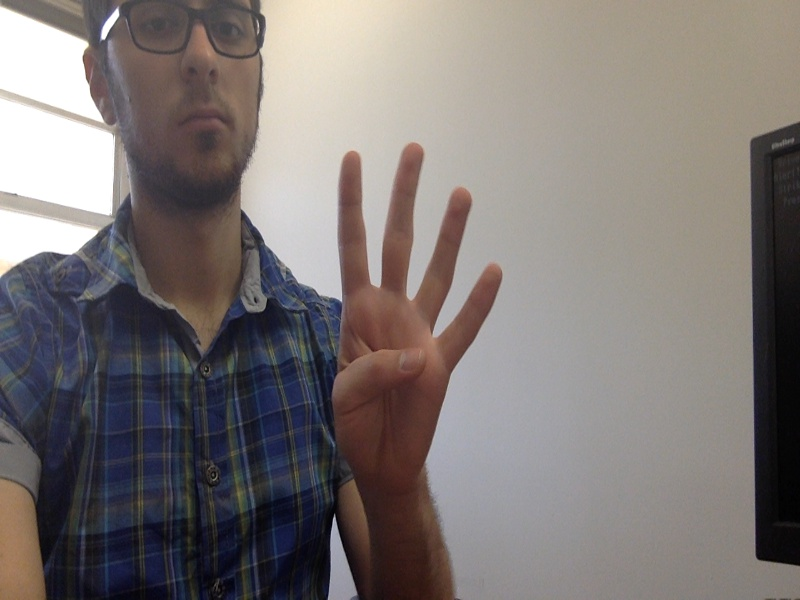4-hand: (329, 143, 503, 474)
